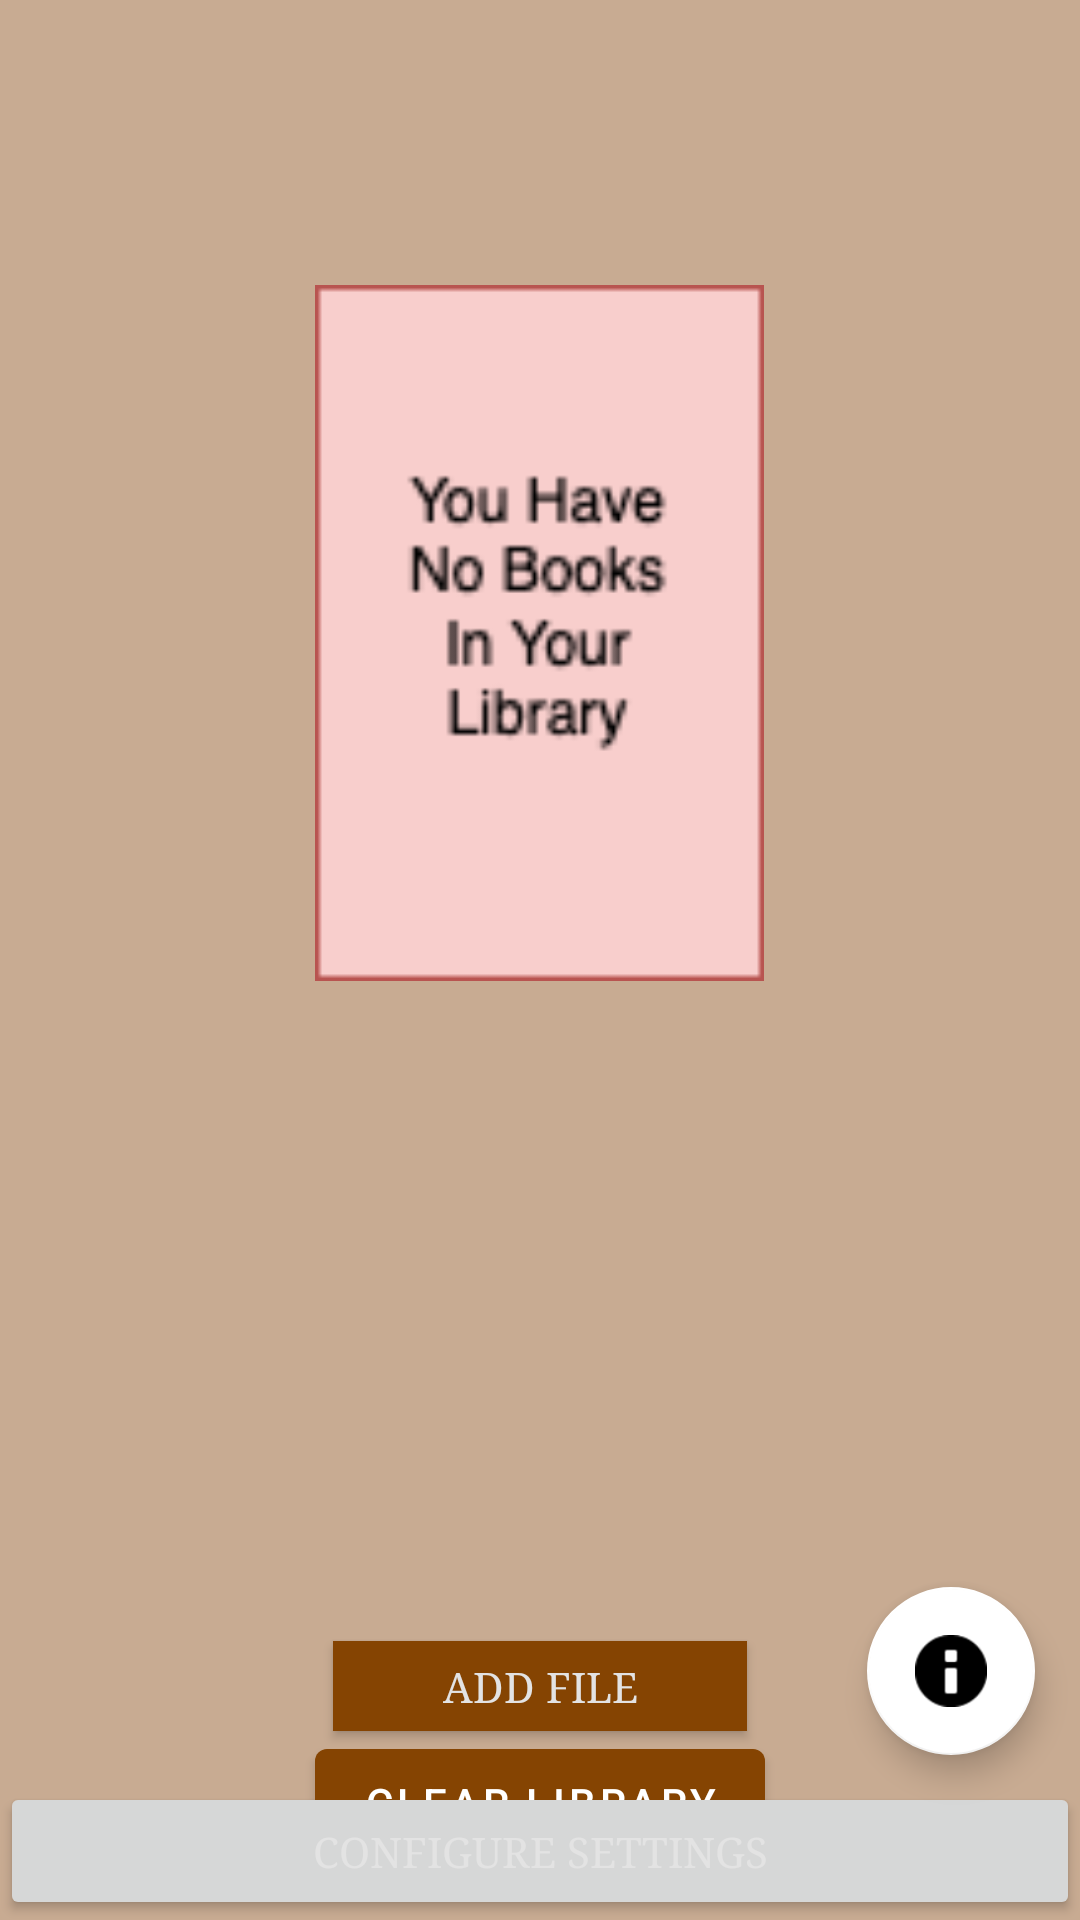

Locate icon controls on the screen. Image size 1080 x 1920, boxes as (x1, y1, x2, y2).
Replay Tutorial: (867, 1587, 1035, 1755)
